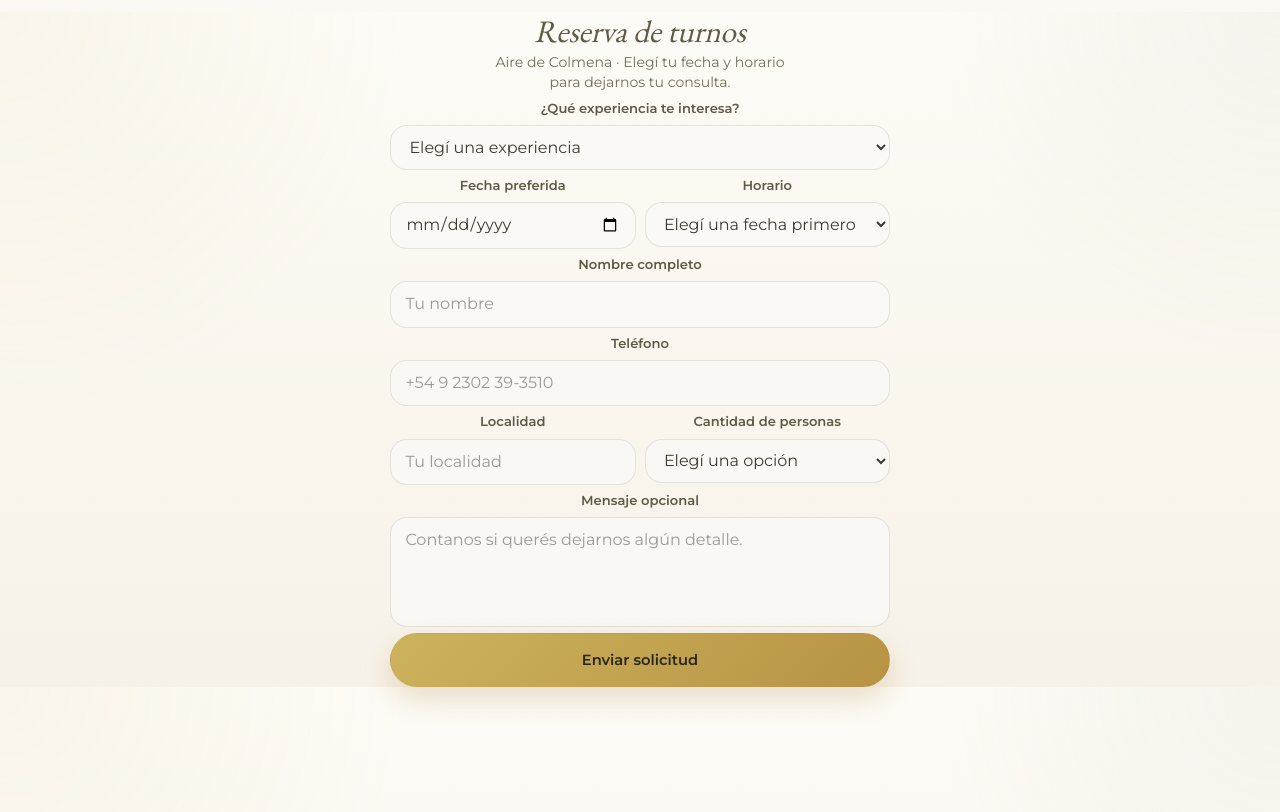
Test: BookingForm › refresca horarios para SLOT_UNAVAILABLE y conserva datos
In the date field labelled "Fecha preferida": (513, 225) [390,202,636,249], type "2026-12-15"
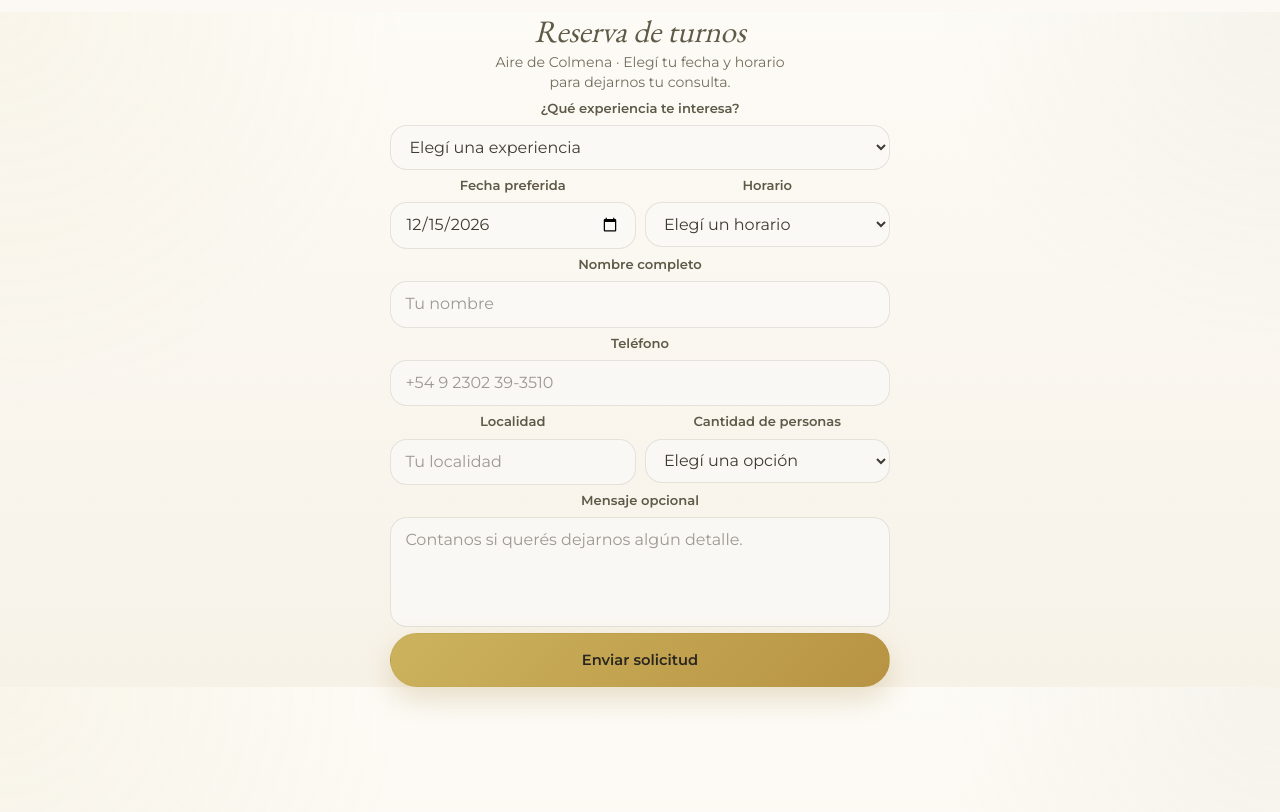
Select "18:00" in the dropdown labelled "Horario": (767, 224) [644,202,890,247]
Select "Aire de Colmena" in the dropdown labelled "¿Qué experiencia te interesa?": (640, 147) [390,125,890,170]
In the field labelled "Nombre completo": (640, 304) [390,281,890,328], type "María Pérez"
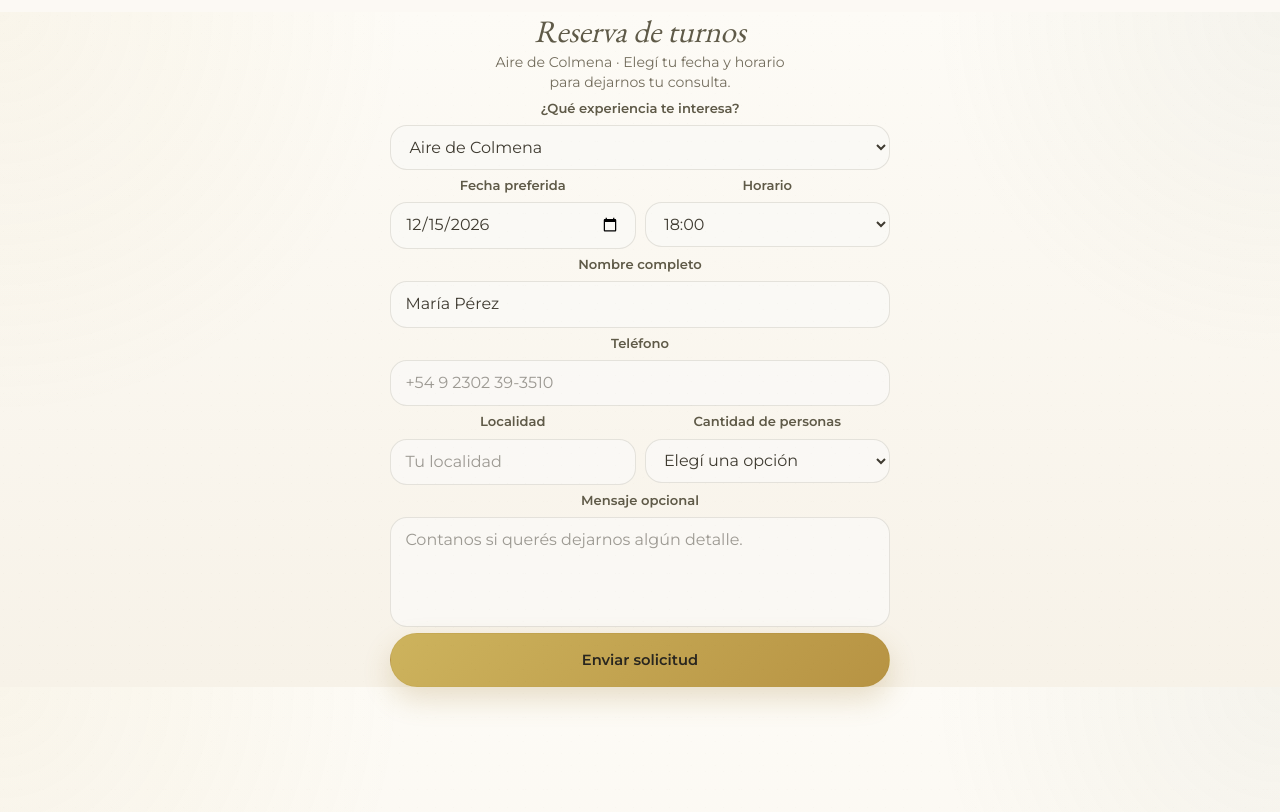
In the field labelled "Teléfono": (640, 383) [390,360,890,406], type "+5492302123456"
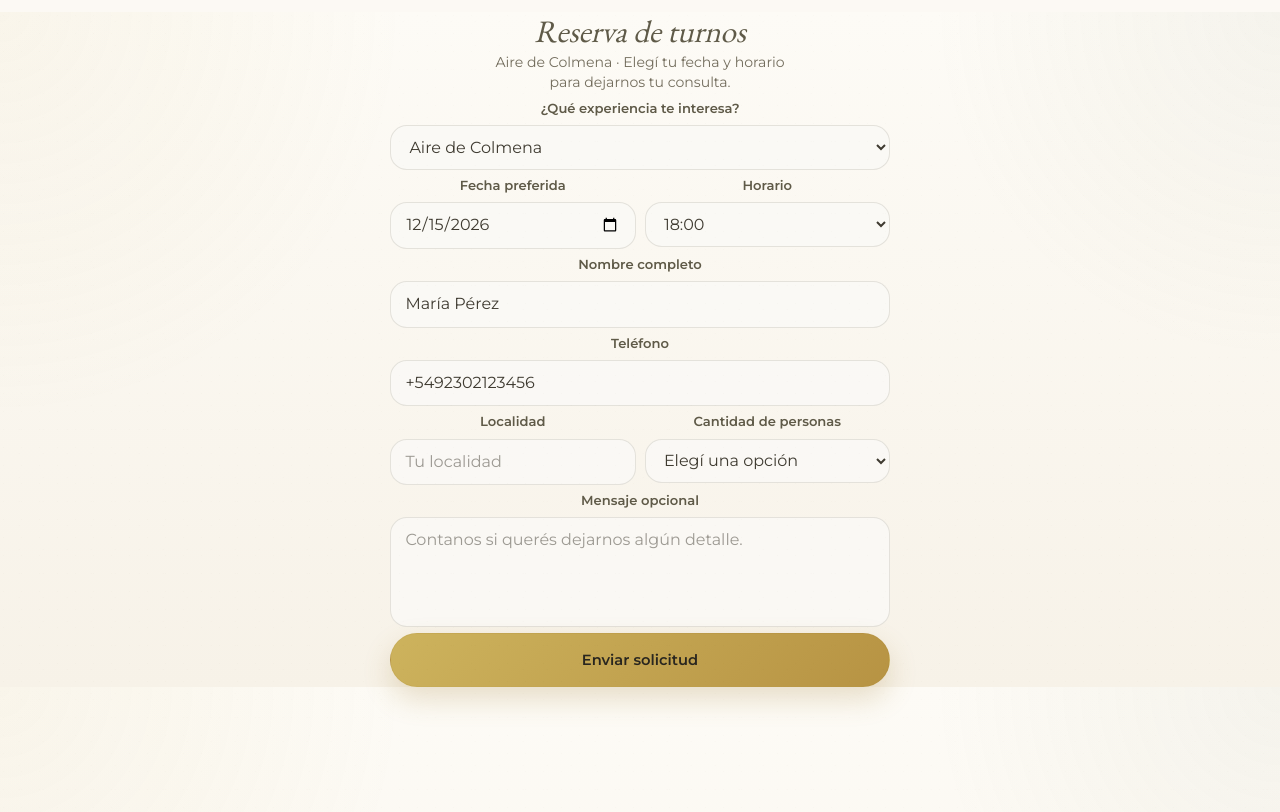
In the field labelled "Localidad": (513, 462) [390,438,636,485], type "General Pico"
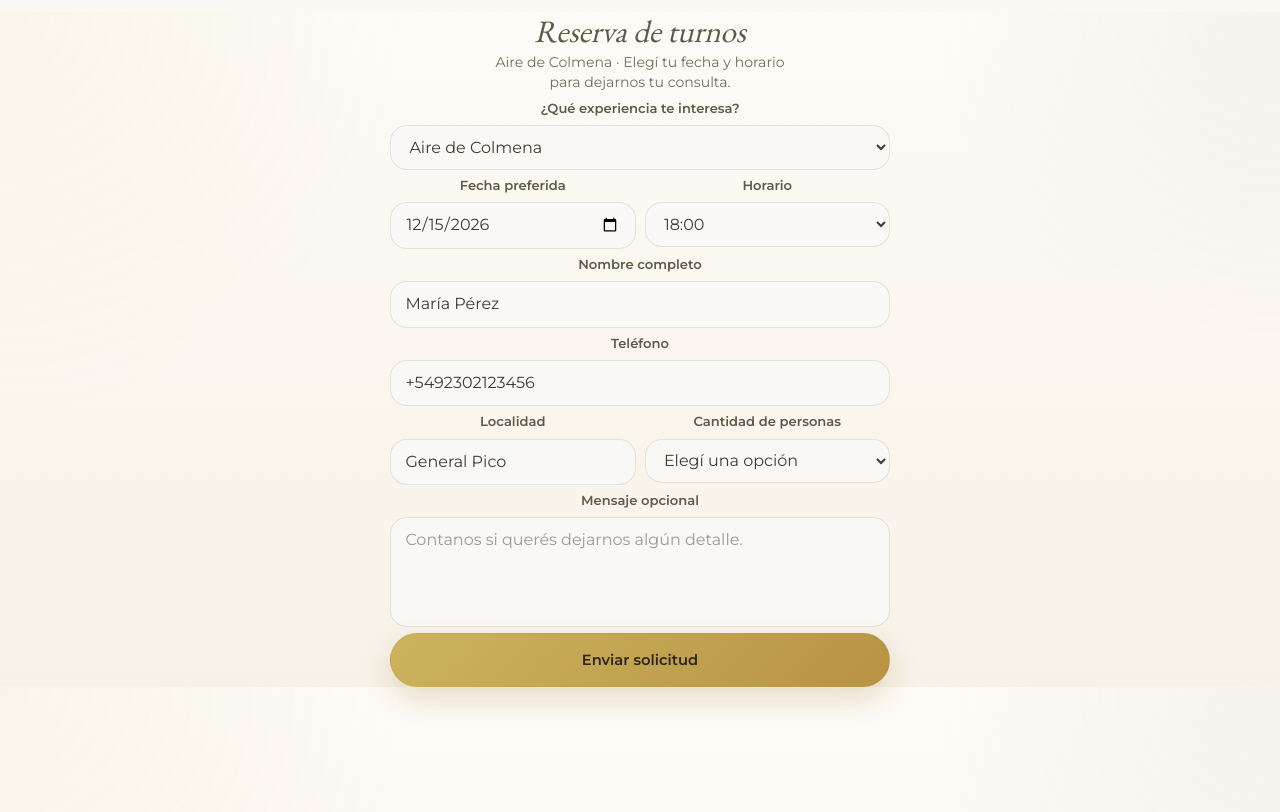
Select "2 personas" in the dropdown labelled "Cantidad de personas": (767, 461) [644,438,890,483]
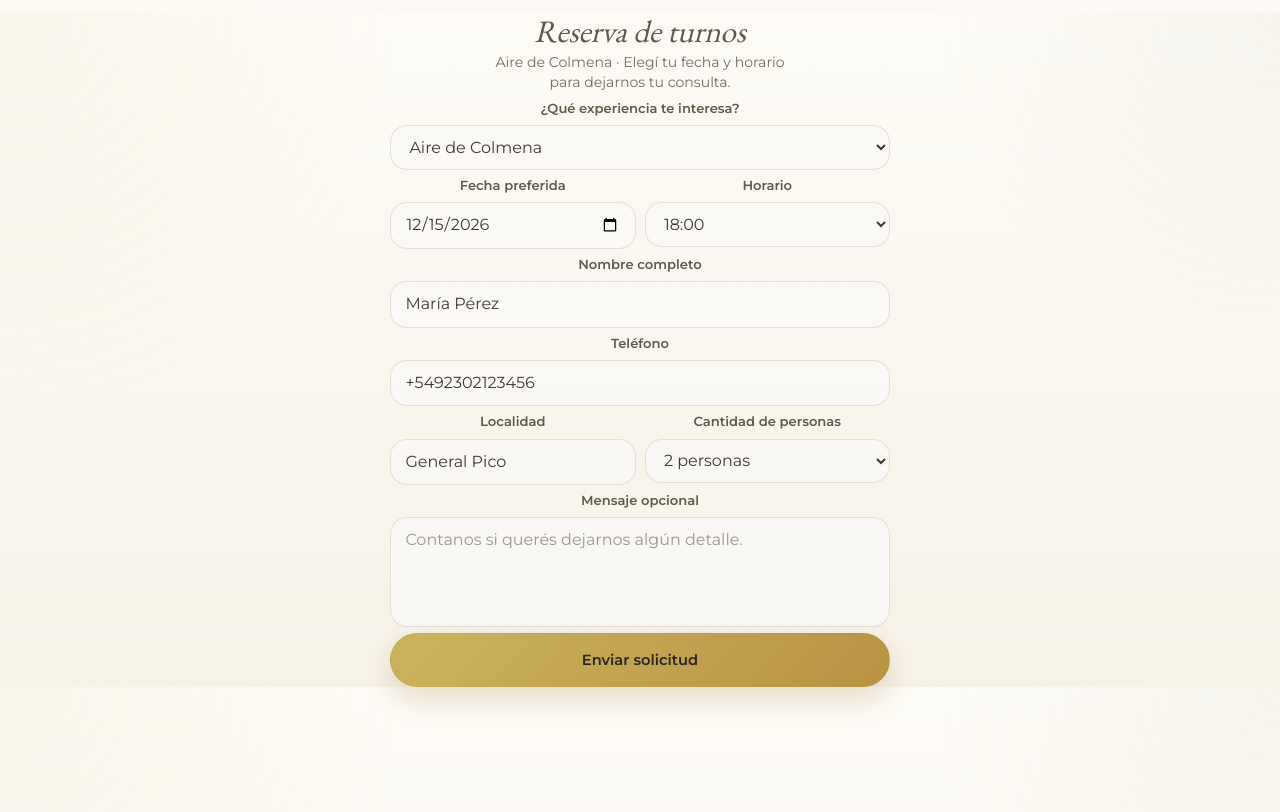
Click the button "Enviar solicitud": (640, 660) [390,632,890,687]
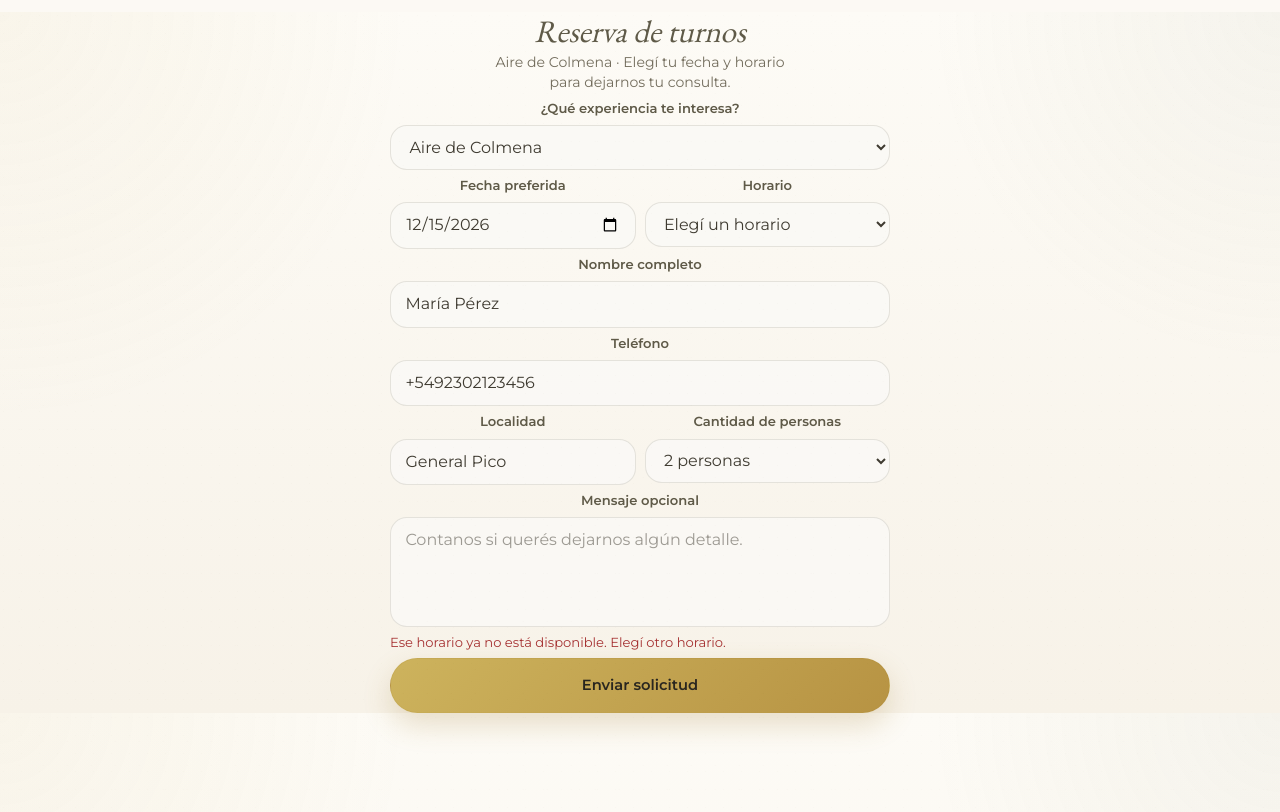
Expected: the text "Ese horario ya no está disponible. Elegí otro horario." is shown, [390,634,726,650]
